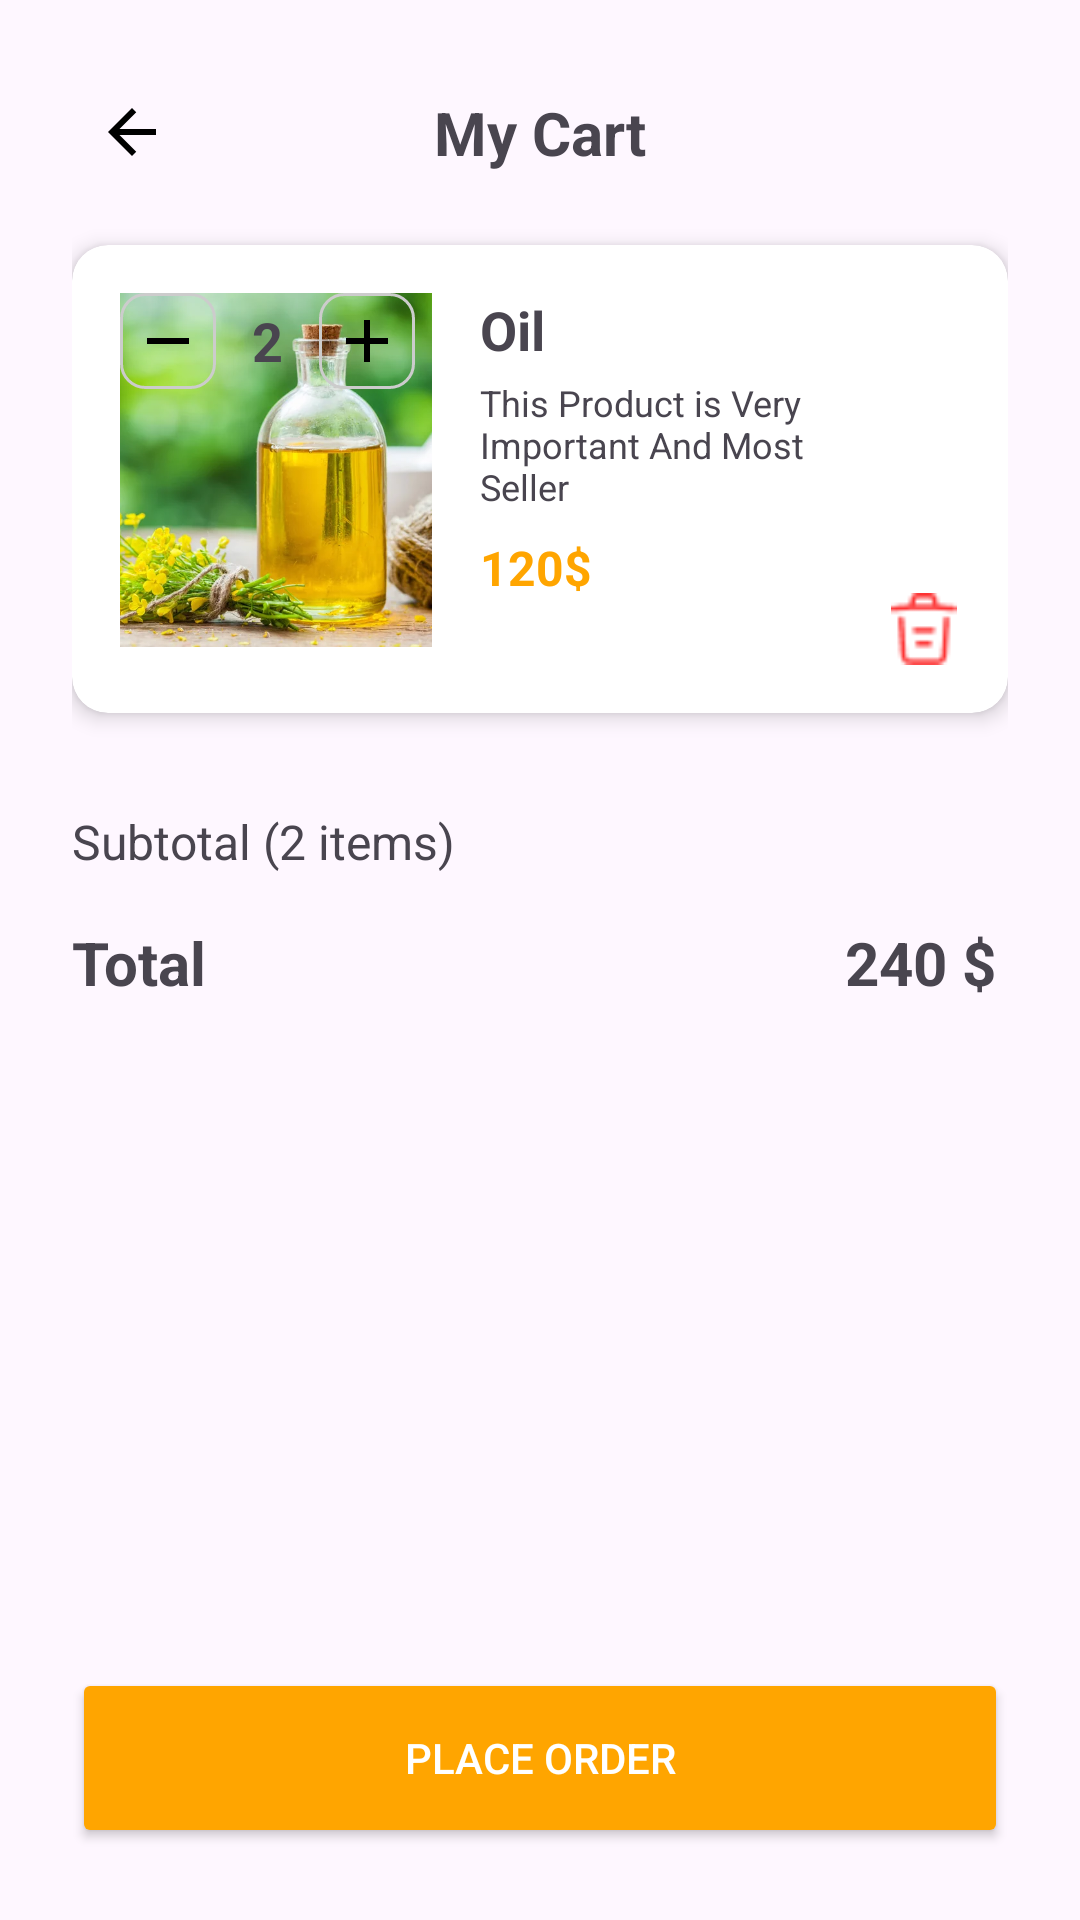

Where icons sit on this 1080w x 1920h app screen, as box(x1, y1, x2, y2):
Back: box(108, 108, 156, 156)
Remove Item: box(891, 593, 957, 665)
